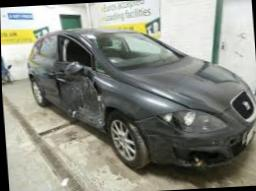Door: (53, 33, 103, 130)
